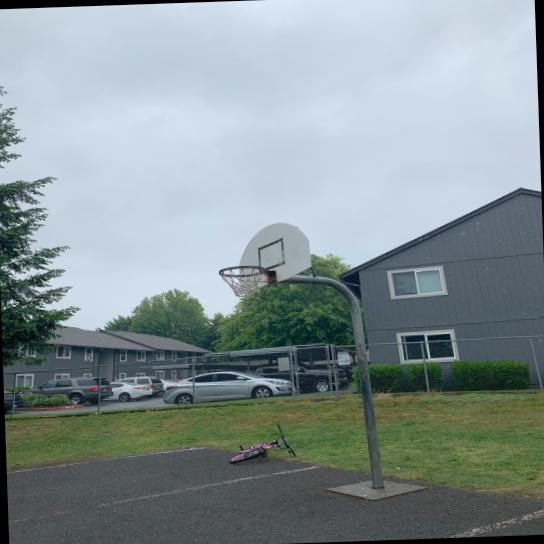basketball-hoop: (218, 264, 268, 300)
